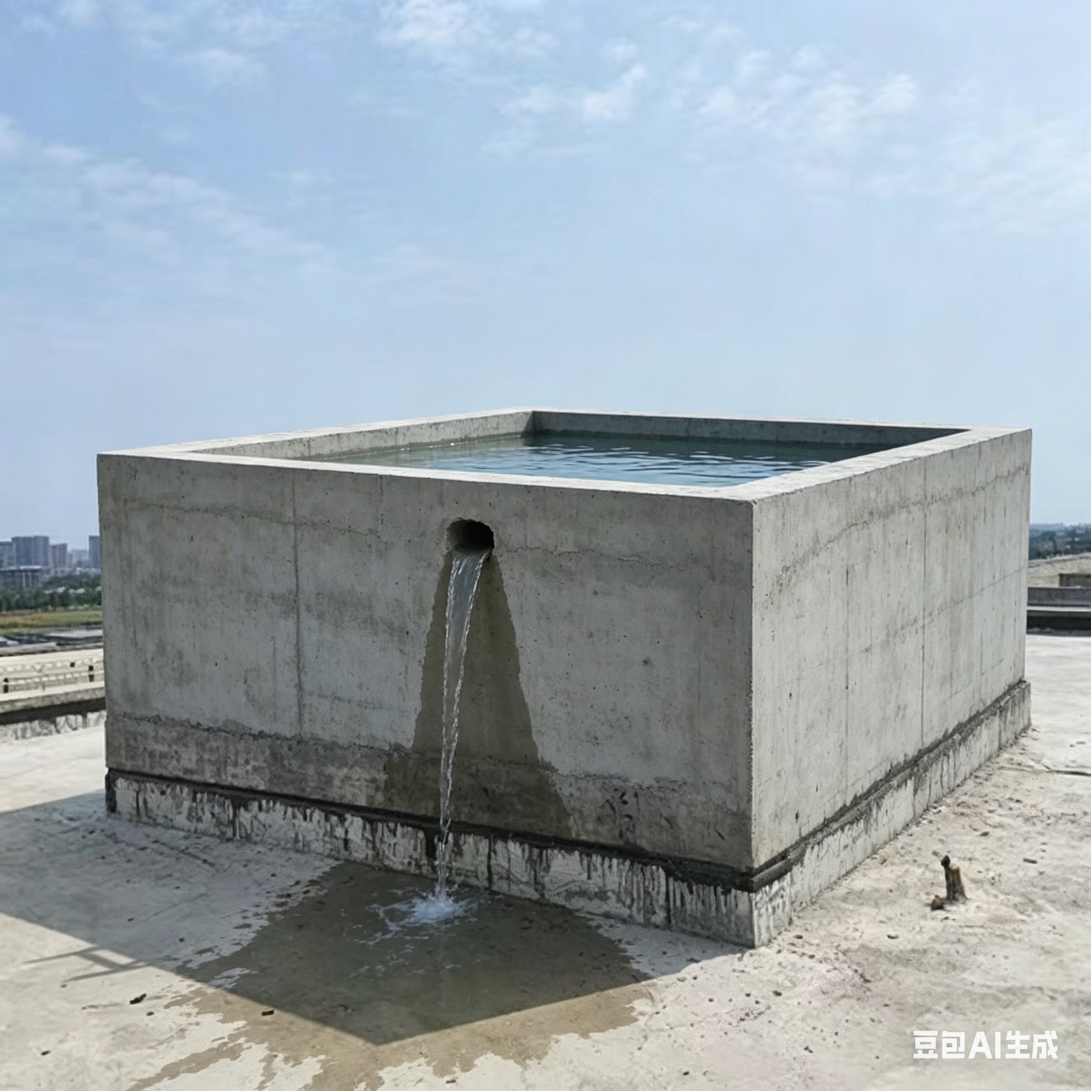Leakage: (319, 872, 636, 1075), (431, 545, 489, 880), (493, 622, 554, 862), (237, 921, 311, 1063), (387, 732, 425, 858)
